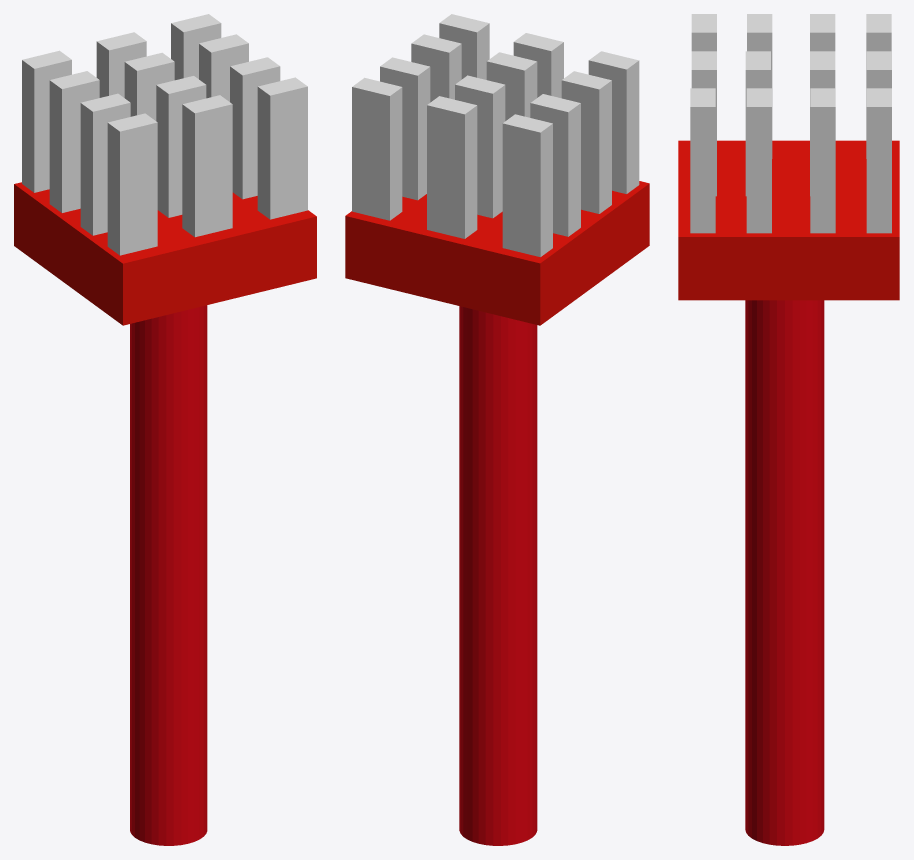
The model's file is kwast.gltf.
3 renders of one model, left to right at view 1: azimuth 30°, elevation 25°; view 2: azimuth 150°, elevation 25°; view 3: azimuth 270°, elevation 25°, orthographic.
Parts seen in each view (by area): view 1: Cylinder, Cube, Cube.003, Cube.011, Cube.005, Cube.002, Cube.004, Cube.001, Cube.009, Cube.006, Cube.008, Cube.010 (+2 smaller); view 2: Cylinder, Cube, Cube.004, Cube.012, Cube.007, Cube.001, Cube.003, Cube.002, Cube.008, Cube.010, Cube.006, Cube.009 (+2 smaller); view 3: Cylinder, Cube, Cube.010, Cube.011, Cube.009, Cube.012, Cube.006, Cube.005, Cube.001, Cube.004, Cube.008, Cube.002 (+2 smaller).
Boxes of the visible parts, <box> form: Cylinder: <box>130,305,207,845</box>; Cube: <box>14,182,316,325</box>; Cube.003: <box>107,113,157,255</box>; Cube.011: <box>257,77,307,219</box>; Cube.005: <box>182,95,232,237</box>; Cube.002: <box>49,71,99,212</box>; Cube.004: <box>22,50,71,192</box>; Cube.001: <box>80,93,130,235</box>; Cube.009: <box>230,57,280,199</box>; Cube.006: <box>156,76,206,217</box>; Cube.008: <box>124,52,174,120</box>; Cube.010: <box>199,34,248,101</box>; Cylinder: <box>459,306,537,845</box>; Cube: <box>345,181,649,325</box>; Cube.004: <box>502,114,552,257</box>; Cube.012: <box>352,77,402,220</box>; Cube.007: <box>427,96,477,238</box>; Cube.001: <box>561,71,611,213</box>; Cube.003: <box>588,51,639,193</box>; Cube.002: <box>530,94,580,236</box>; Cube.008: <box>455,75,505,218</box>; Cube.010: <box>380,57,430,200</box>; Cube.006: <box>486,52,537,120</box>; Cube.009: <box>411,34,461,102</box>; Cylinder: <box>745,300,824,845</box>; Cube: <box>678,140,899,300</box>; Cube.010: <box>810,88,835,233</box>; Cube.011: <box>690,88,715,233</box>; Cube.009: <box>746,88,771,233</box>; Cube.012: <box>866,88,891,233</box>; Cube.006: <box>745,51,770,196</box>; Cube.005: <box>691,51,716,196</box>; Cube.001: <box>747,14,772,158</box>; Cube.004: <box>866,14,891,158</box>; Cube.008: <box>810,51,835,195</box>; Cube.002: <box>810,14,835,51</box>.
Size of the model in its own units: 0.72 by 2.68 by 0.7.
